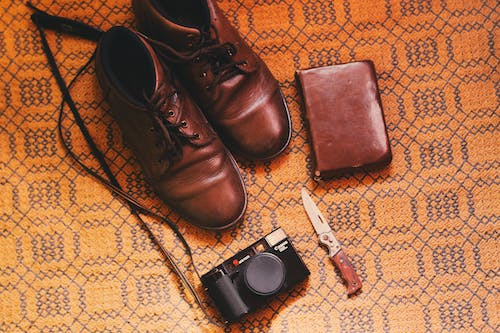knife: (300, 186, 363, 296)
